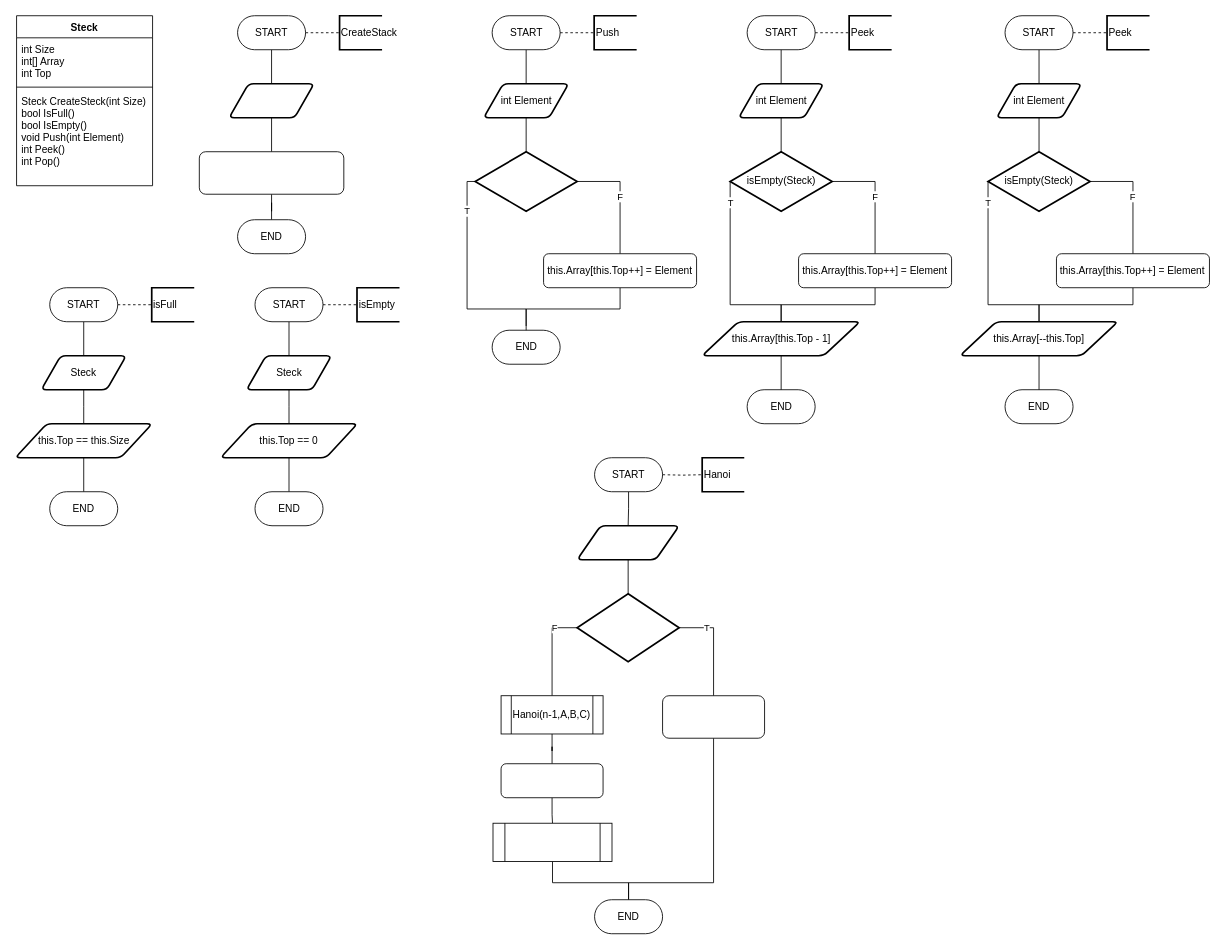
The diagram is 1225 pixels wide and 949 high, and some of its shapes have lost their labels. Here are the shapes that lost their labels. From the top down, the centre of each, then its label:
[271,100]: int Size
[271,172]: this.Size = Size this.Top = 0 this.Array = new int[this.Size]
[526,181]: isFull(Steck)
[628,542]: int N Steck A, B, C
[628,627]: if n==1
[713,716]: int temp = A.Pop() C.Push(temp)
[551,780]: int temp2 = A.Pop() C.Push(temp2)
[552,841]: Hanoi(n-1, B, A, C)
